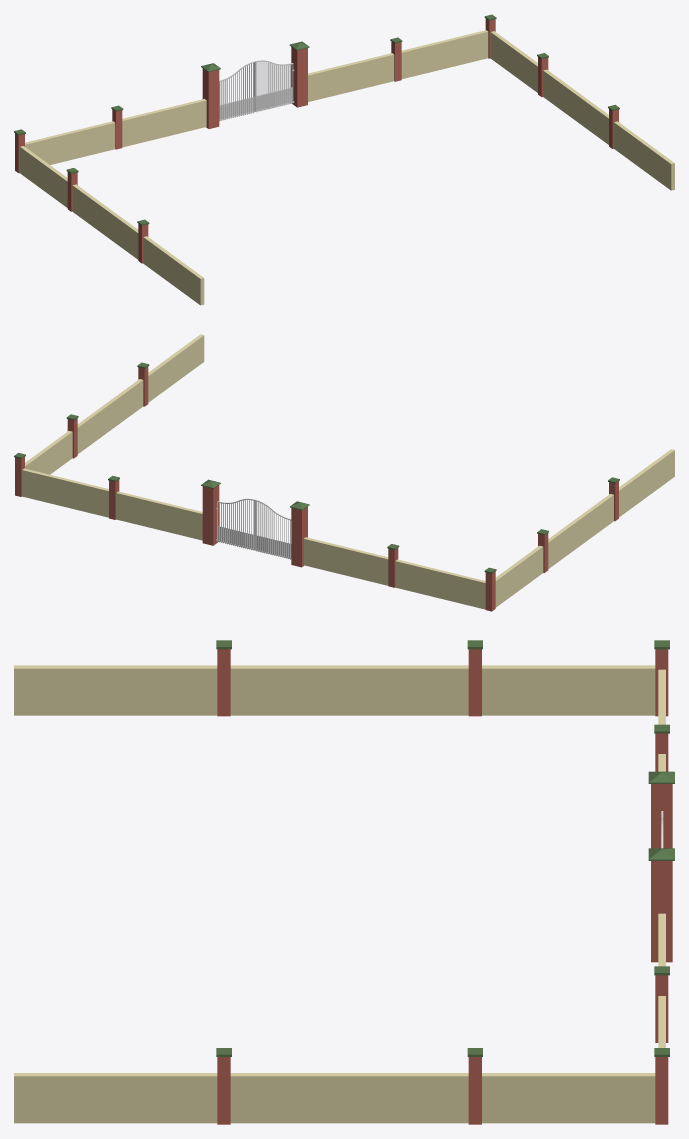
The model's file is fence wall.fbx.
The picture shows the model from 3 angles, top to bottom: view 1: azimuth 30°, elevation 25°; view 2: azimuth 150°, elevation 25°; view 3: azimuth 270°, elevation 25°; orthographic projection. The views are drawn at different scales.
Visible parts, largest first — view 1: muretto_4, muretto_3, muretto, muretto_2, colonne, anta_mobile_sx, anta_mobile_dx; view 2: muretto_4, muretto_2, muretto, muretto_3, colonne, anta_mobile_dx, anta_mobile_sx; view 3: muretto_4, muretto_3, colonne, muretto.
Boxes of the visible parts, left/top/right/bottom form: muretto_4: left=20, top=146, right=204, bottom=305; muretto_3: left=490, top=31, right=674, bottom=190; muretto: left=308, top=30, right=488, bottom=101; muretto_2: left=25, top=99, right=206, bottom=164; colonne: left=14, top=14, right=619, bottom=263; anta_mobile_sx: left=255, top=60, right=293, bottom=111; anta_mobile_dx: left=219, top=61, right=255, bottom=121; muretto_4: left=495, top=449, right=674, bottom=607; muretto_2: left=303, top=537, right=485, bottom=609; muretto: left=22, top=468, right=202, bottom=540; muretto_3: left=25, top=334, right=204, bottom=474; colonne: left=14, top=362, right=619, bottom=611; anta_mobile_dx: left=255, top=499, right=291, bottom=559; anta_mobile_sx: left=216, top=498, right=254, bottom=550; muretto_4: left=14, top=665, right=655, bottom=715; muretto_3: left=14, top=1073, right=655, bottom=1123; colonne: left=216, top=640, right=674, bottom=1124; muretto: left=658, top=913, right=665, bottom=1047.
Bounding box in the file's own units: 3772 × 461 × 2544.
